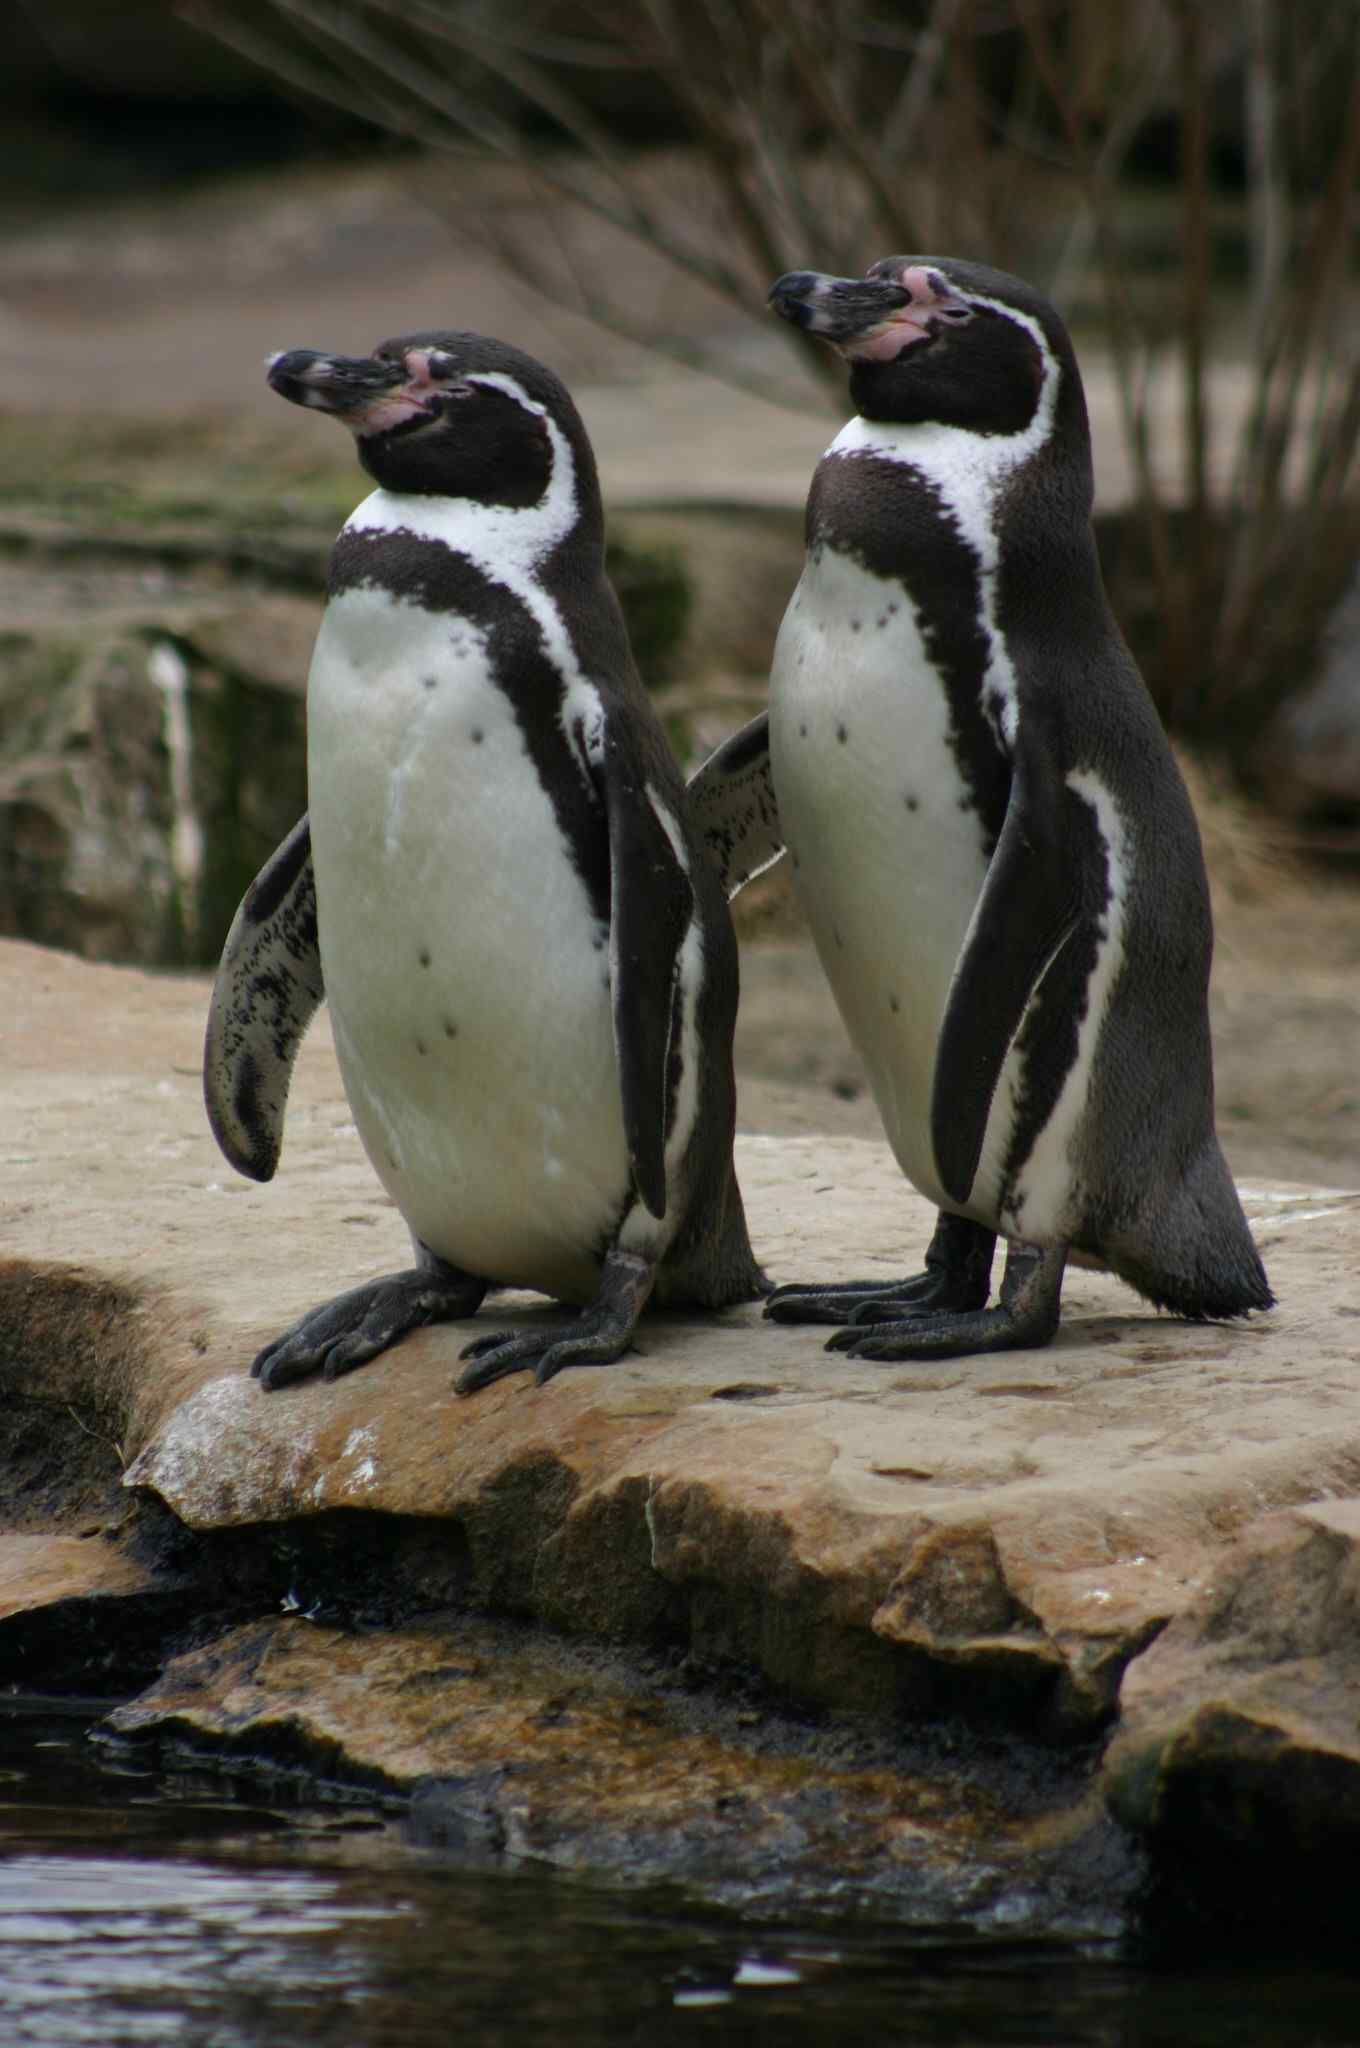penguin: (735, 261, 1273, 1364), (216, 329, 776, 1373)
